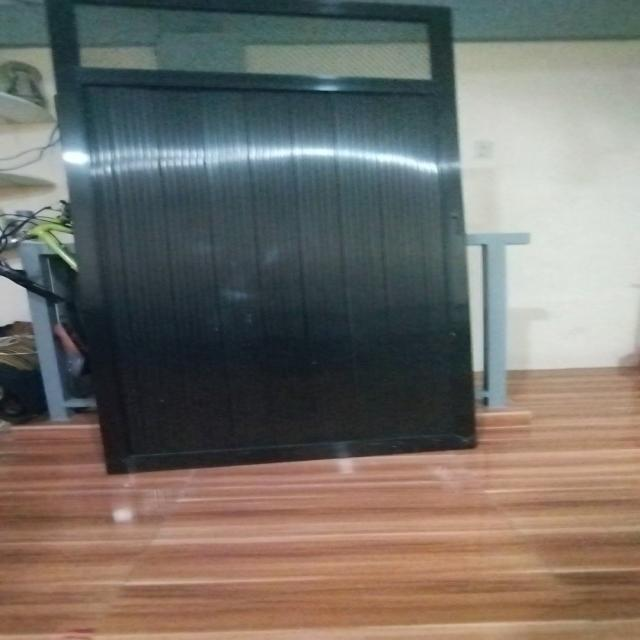door: (47, 0, 488, 470)
